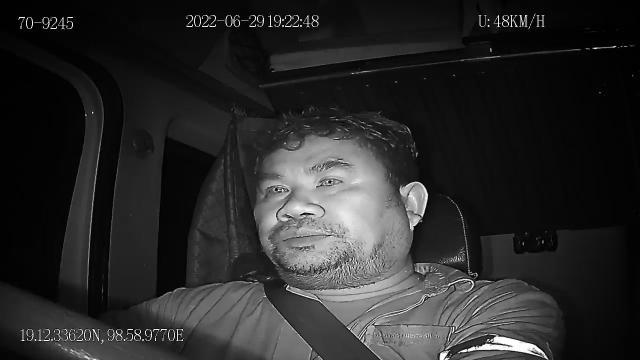SafeDriving: (310, 164, 351, 194), (258, 174, 294, 201)
Seatbelt: (262, 276, 384, 360)
